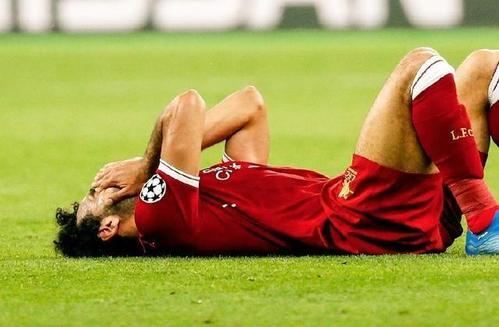down: (43, 38, 499, 265)
